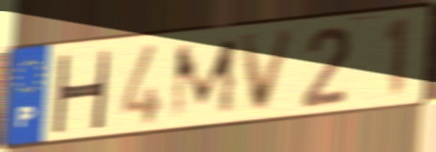1: (380, 14, 413, 102)
2: (300, 22, 357, 111)
4: (118, 40, 165, 127)
H: (49, 49, 114, 133)
M: (167, 35, 240, 123)
V: (238, 25, 300, 117)
